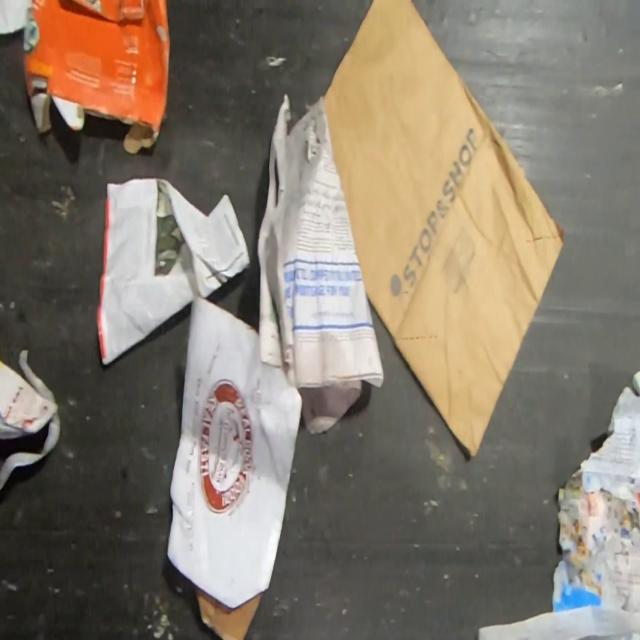cardboard: (165, 290, 305, 640), (21, 0, 171, 157), (0, 0, 28, 36)
soft_plastic: (0, 408, 61, 492), (17, 348, 56, 404)
